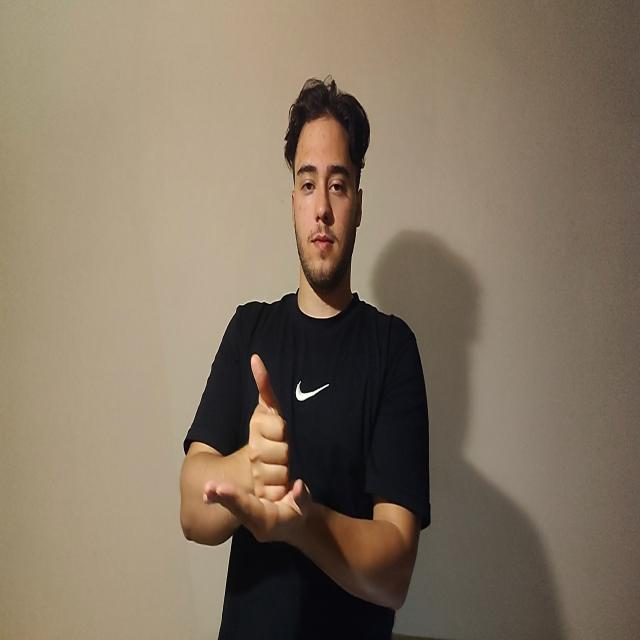help: (205, 357, 314, 547)
